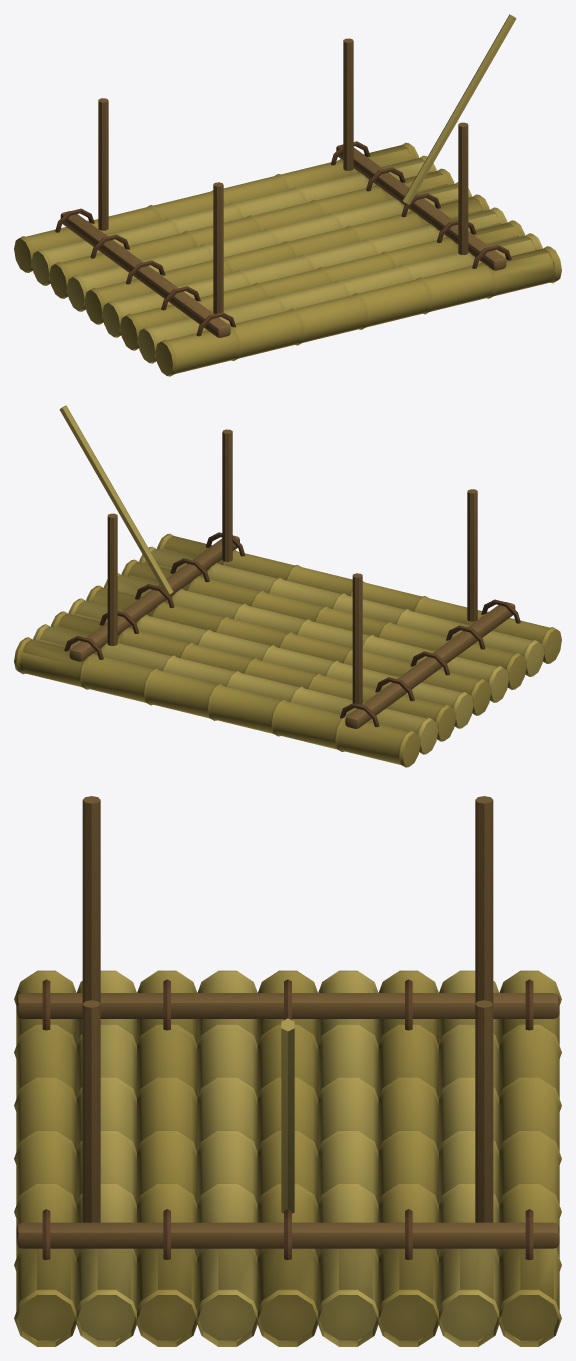
Rendered from boat-raft.glb.
The picture shows the model from 3 angles, top to bottom: view 1: azimuth 30°, elevation 25°; view 2: azimuth 150°, elevation 25°; view 3: azimuth 270°, elevation 25°; orthographic projection. The views are drawn at different scales.
Parts seen in each view (by area): view 1: body; view 2: body; view 3: body.
Part boxes in pixels (x1,y1,x2,y2): body: (14,14,561,376); body: (14,405,561,767); body: (14,796,561,1346).
Size of the model in its own units: 5.54 by 2.58 by 3.63.
